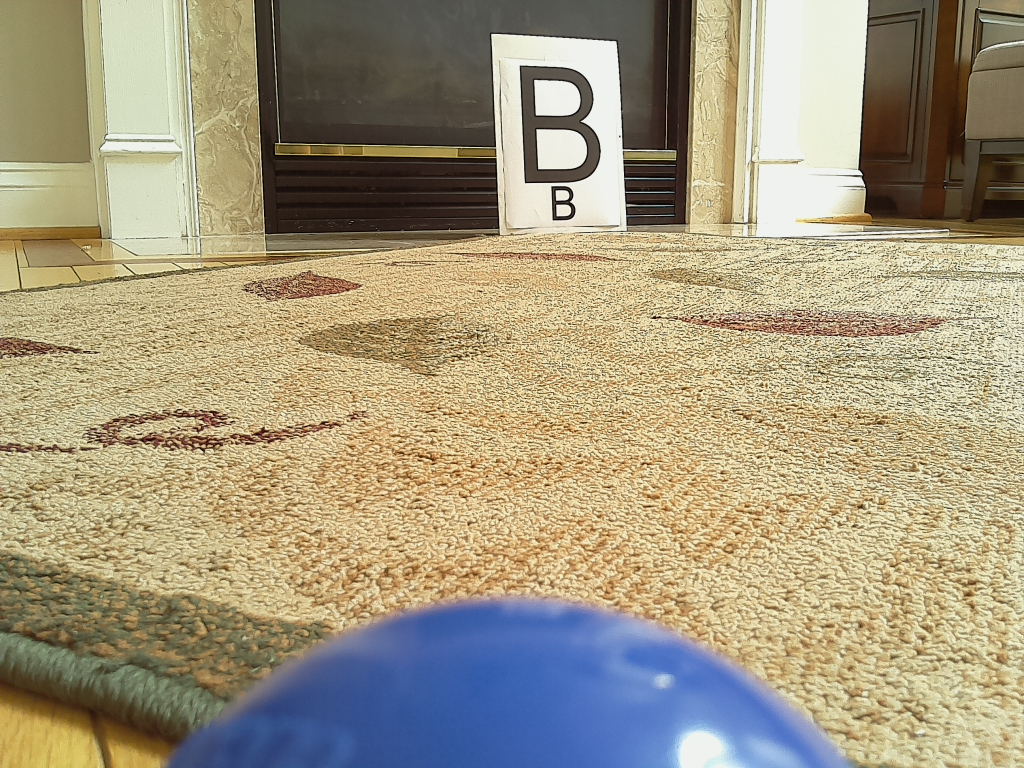letter: (518, 66, 602, 185)
